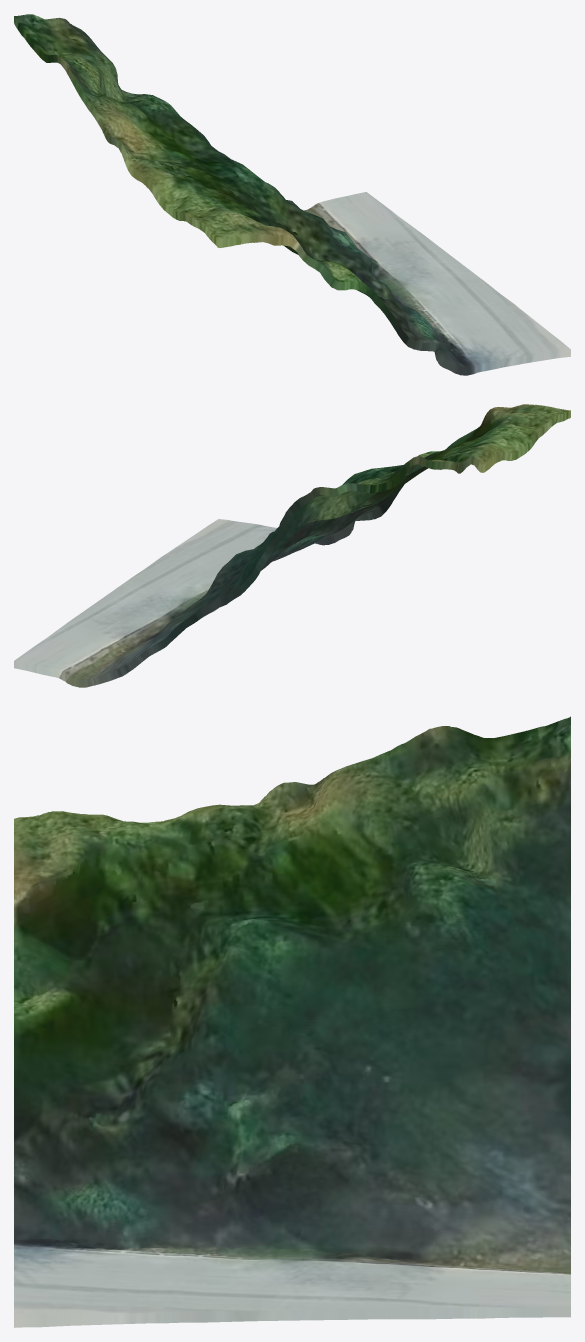
Rendered from z20-167559-405171-h0-yup-uvflip-v3-world.glb.
3 views of the same model, one above another, from view 1: azimuth 30°, elevation 25°; view 2: azimuth 150°, elevation 25°; view 3: azimuth 270°, elevation 25° (orthographic). The views are drawn at different scales.
Size of the model in its own units: 30.16 by 22.68 by 30.32.
Materials: 1 (1 with a texture image).
